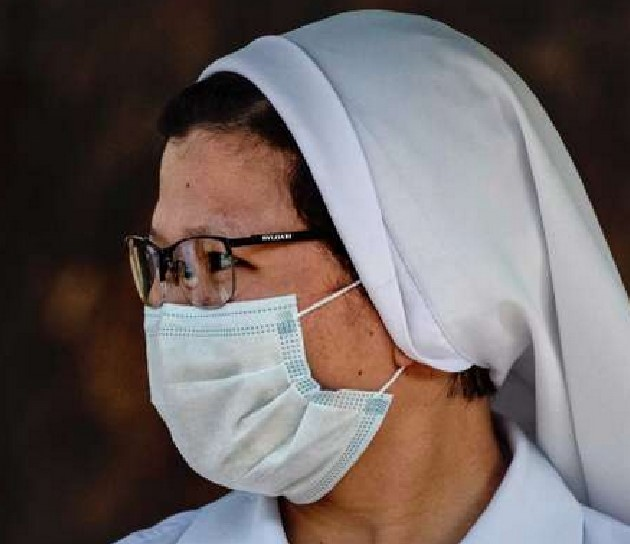face_with_mask: (124, 12, 504, 504)
